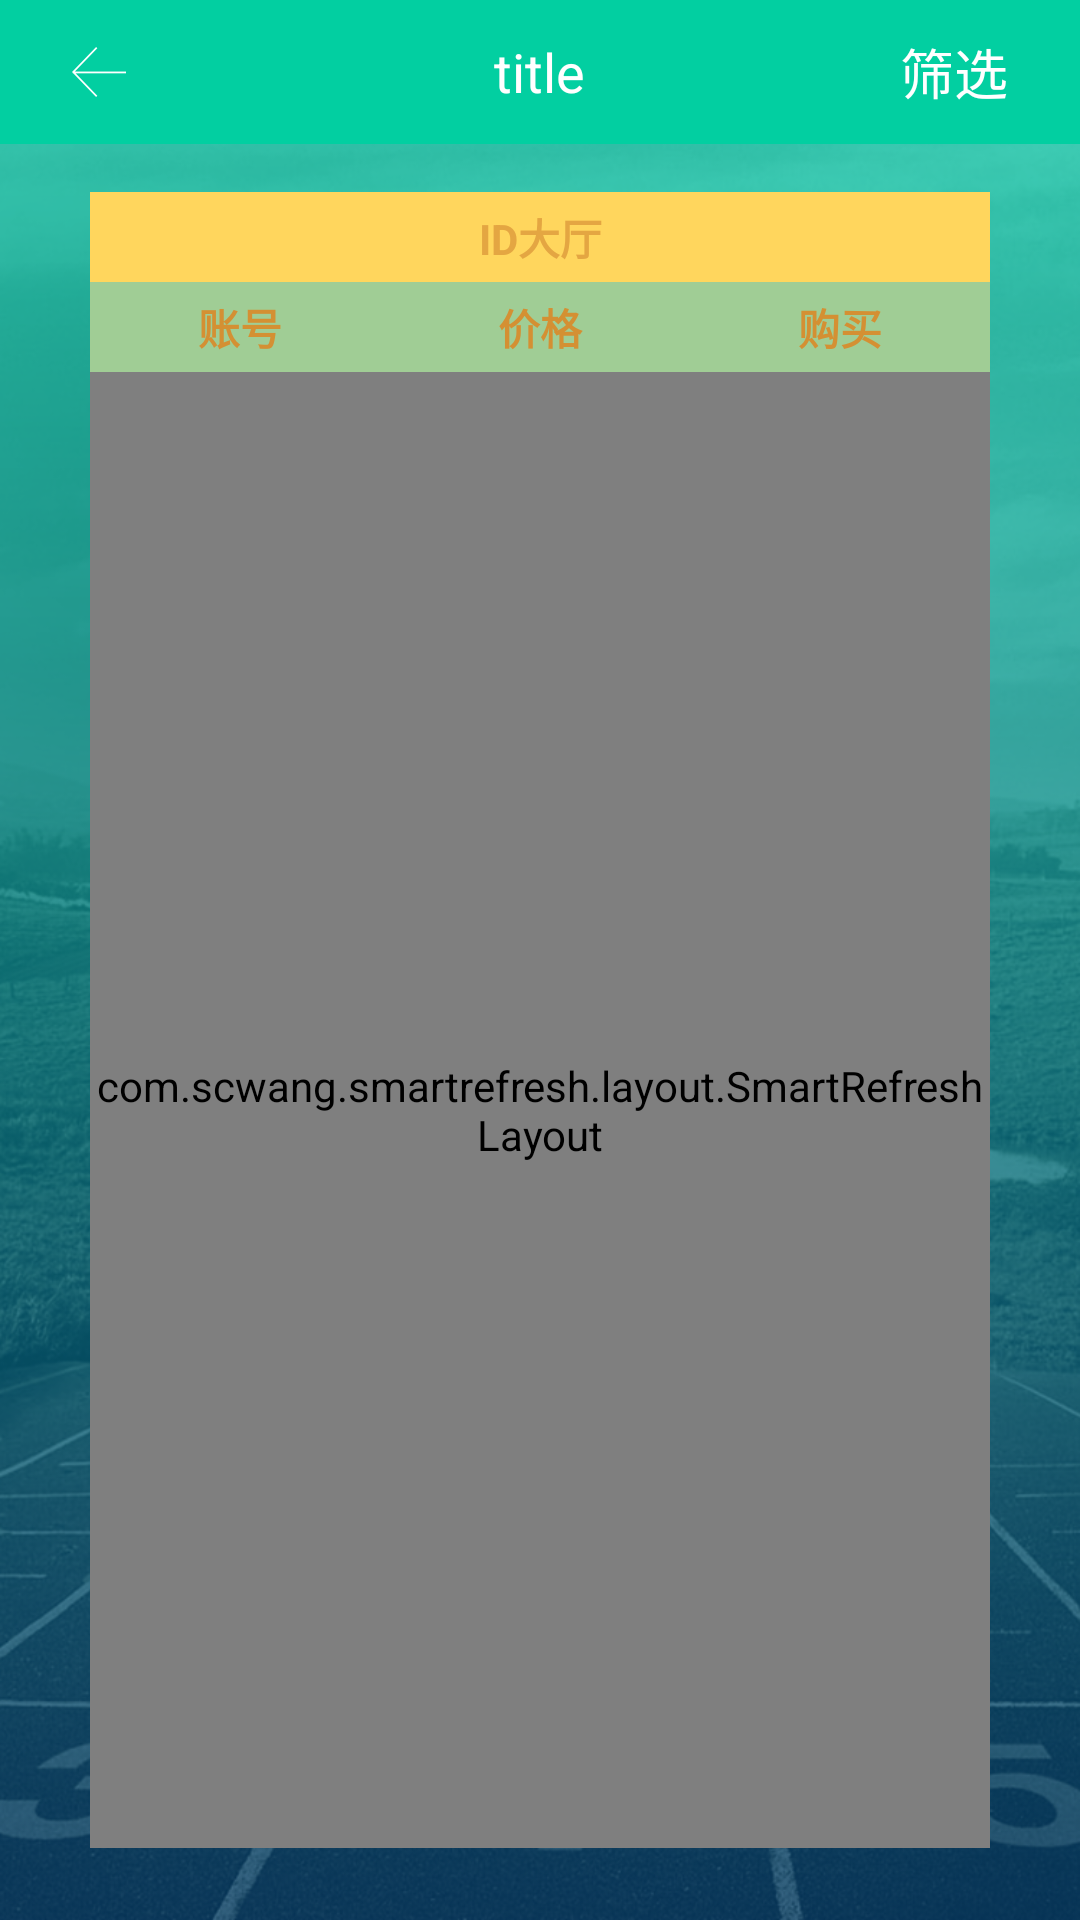

Locate icon controls on the screen. Image size 1080px×1920px, boxes as (x1, y1, x2, y2).
back: (72, 47, 126, 97)
